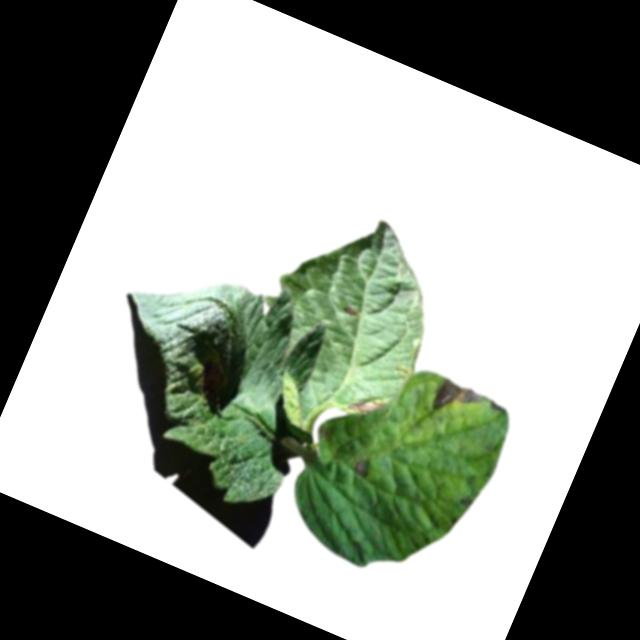Early_blight: (429, 375, 507, 436), (346, 384, 391, 424), (351, 453, 375, 479), (340, 301, 360, 319)
